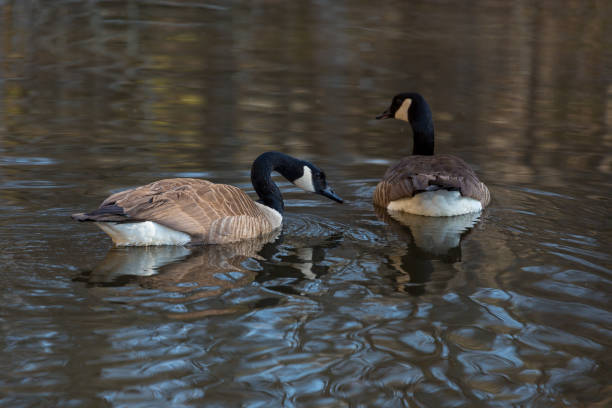goose: (66, 150, 345, 251), (369, 89, 494, 219)
